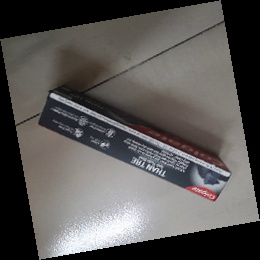Colgate Than: (35, 85, 233, 202)
